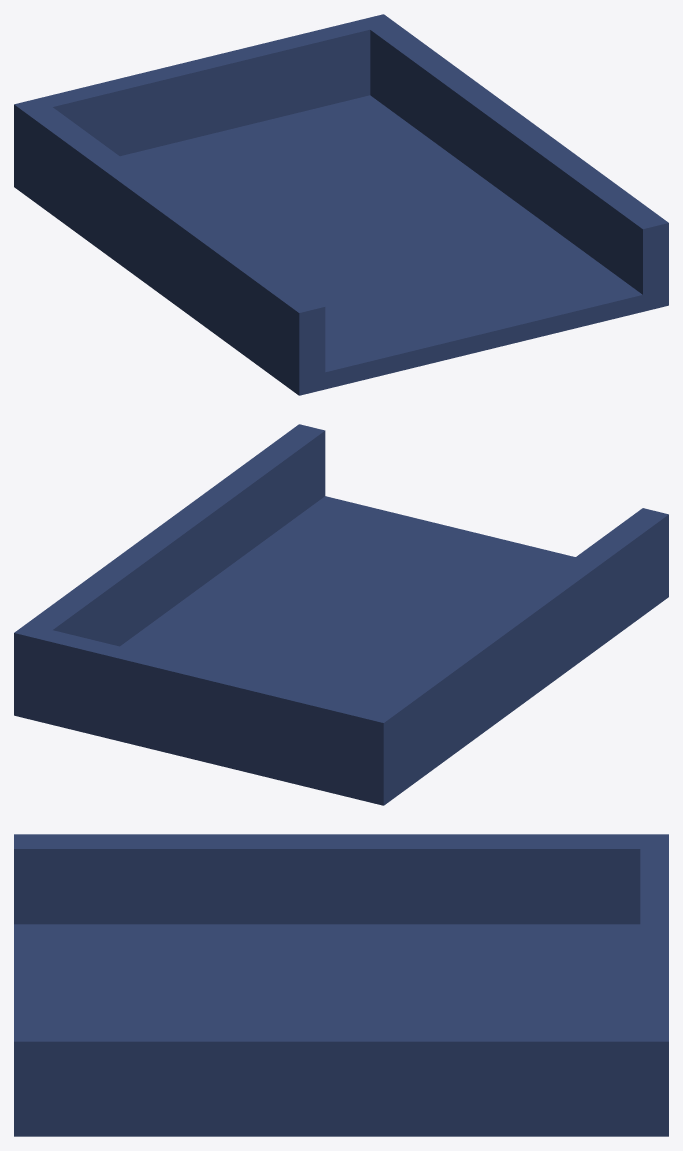
The model's file is paper tray textured.FBX.
The picture shows the model from 3 angles, top to bottom: view 1: azimuth 30°, elevation 25°; view 2: azimuth 150°, elevation 25°; view 3: azimuth 270°, elevation 25°; orthographic projection. The views are drawn at different scales.
Visible parts, largest first — view 1: Box001; view 2: Box001; view 3: Box001.
Part boxes in pixels (x1,y1,x2,y2): Box001: [14, 14, 668, 395]; Box001: [14, 424, 668, 805]; Box001: [14, 834, 668, 1136].
Bounding box in the file's own units: 210 × 44.89 × 281.
